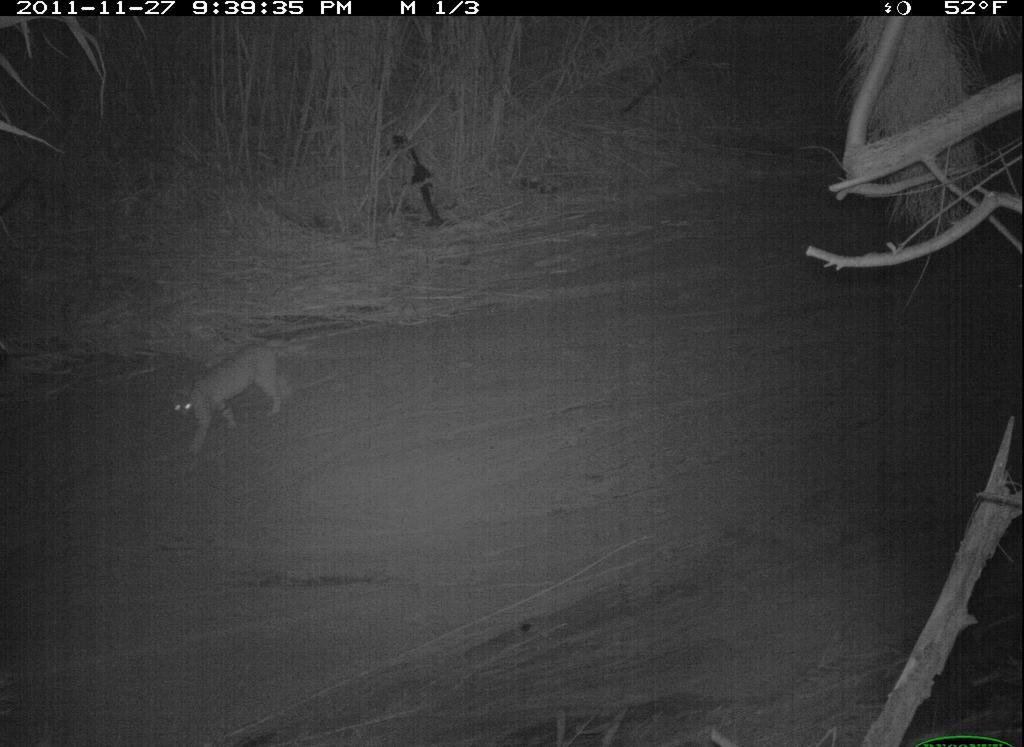bobcat: (161, 340, 322, 455)
